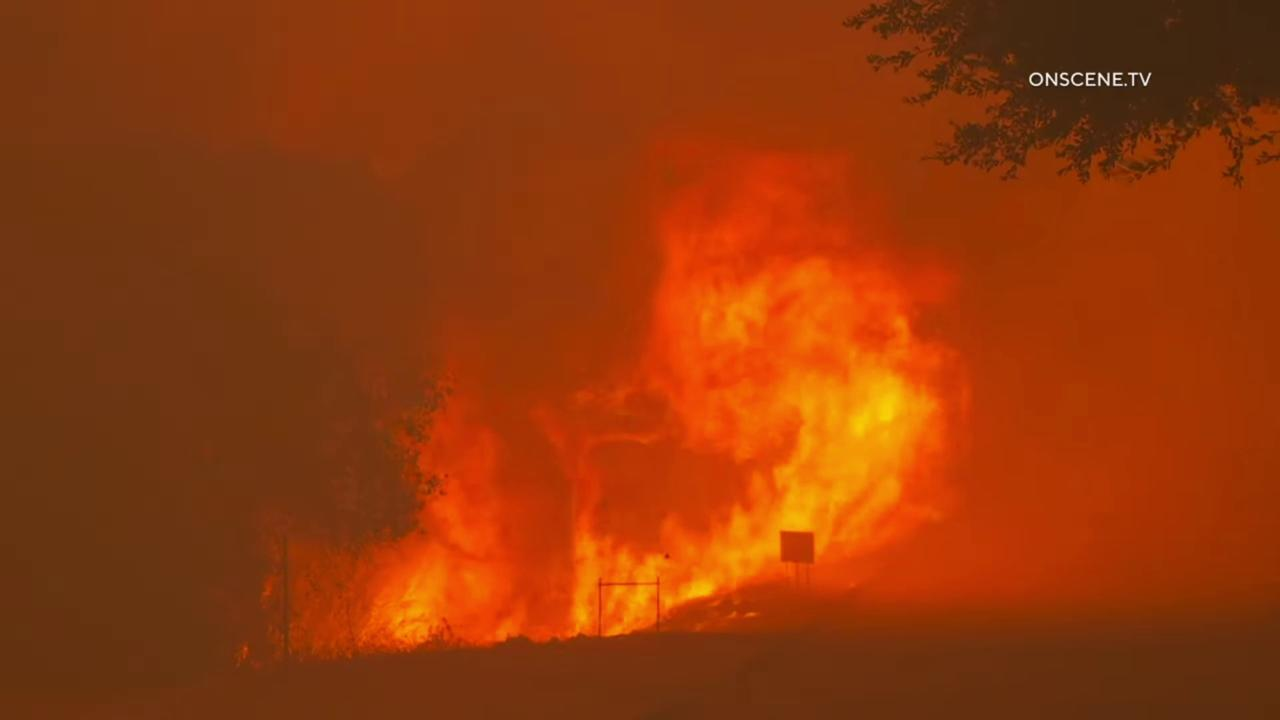fire: (232, 132, 970, 668)
smoke: (0, 0, 1280, 720)
